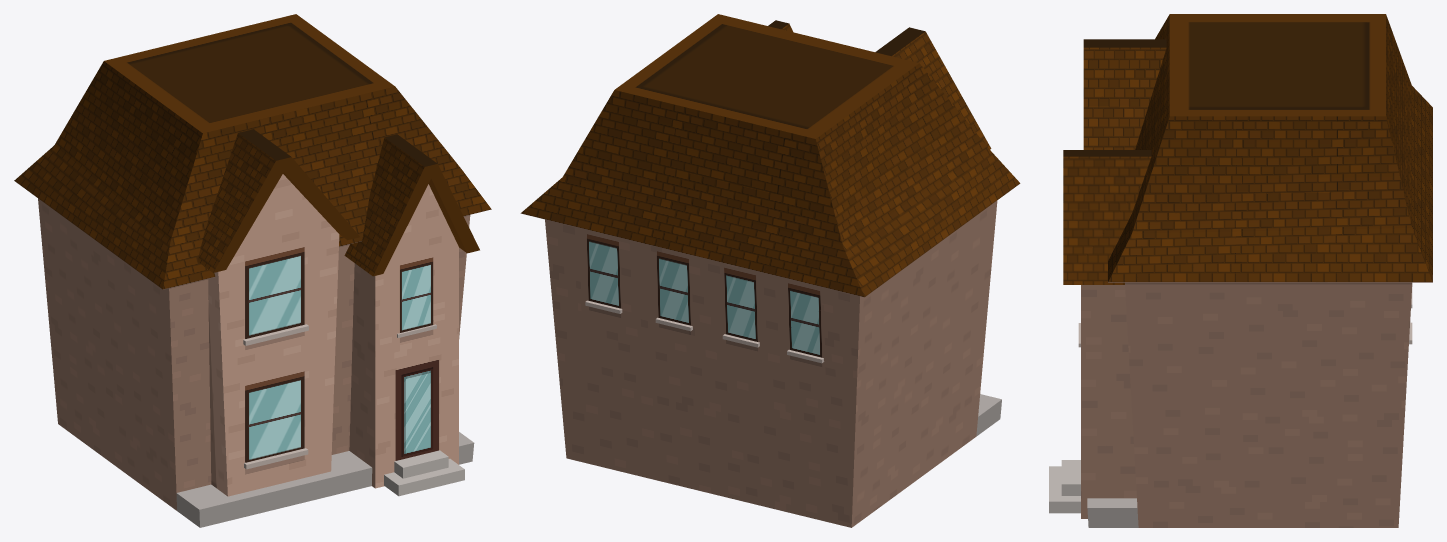
Rendered from city_residential_01.fbx.
The picture shows the model from 3 angles, left to right: view 1: azimuth 30°, elevation 25°; view 2: azimuth 150°, elevation 25°; view 3: azimuth 270°, elevation 25°; orthographic projection. The views are drawn at different scales.
Visible parts, largest first — view 1: house02:polySurface236; view 2: house02:polySurface236; view 3: house02:polySurface236.
Boxes of the visible parts, box(x1,y1,x2,y2) form: house02:polySurface236: box(14, 14, 491, 527); house02:polySurface236: box(520, 14, 1020, 527); house02:polySurface236: box(1049, 14, 1432, 527).
Bounding box in the file's own units: 7.38 × 7.67 × 6.84.
